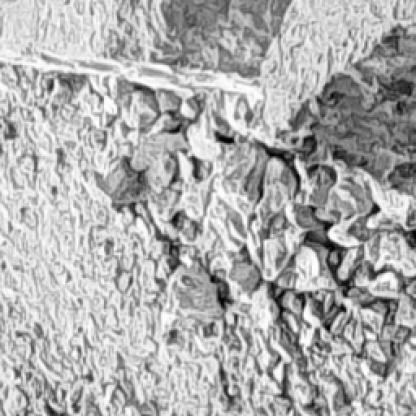cementitious_debris: (286, 19, 413, 195)
